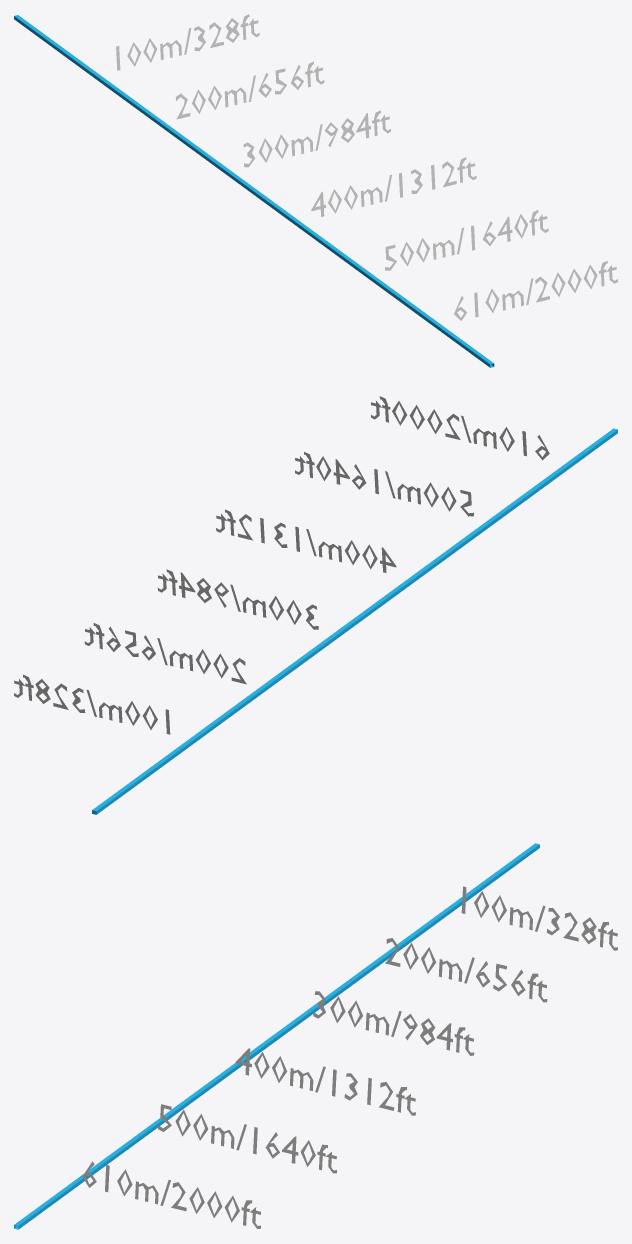
Rendered from wireDistance.glb.
3 views of the same model, one above another, from view 1: azimuth 30°, elevation 25°; view 2: azimuth 150°, elevation 25°; view 3: azimuth 330°, elevation 25° (orthographic). The views are drawn at different scales.
Parts seen in each view (by area): view 1: Cube, Text.004, Text.003, Text.005, Text.001, Text, Text.002; view 2: Cube, Text.004, Text.003, Text.005, Text.001, Text, Text.002; view 3: Cube, Text.004, Text.003, Text.005, Text.001, Text, Text.002.
Boxes of the visible parts, x1=… form: Cube: x1=14, y1=15, x2=494, y2=367; Text.004: x1=385, y1=210, x2=548, y2=270; Text.003: x1=311, y1=157, x2=476, y2=216; Text.005: x1=454, y1=260, x2=617, y2=320; Text.001: x1=243, y1=110, x2=390, y2=167; Text: x1=116, y1=14, x2=259, y2=70; Text.002: x1=175, y1=61, x2=324, y2=119; Cube: x1=92, y1=428, x2=617, y2=814; Text.004: x1=295, y1=452, x2=473, y2=516; Text.003: x1=216, y1=509, x2=396, y2=572; Text.005: x1=371, y1=396, x2=549, y2=460; Text.001: x1=157, y1=569, x2=318, y2=629; Text: x1=14, y1=674, x2=170, y2=734; Text.002: x1=84, y1=623, x2=246, y2=684; Cube: x1=14, y1=843, x2=539, y2=1229; Text.004: x1=158, y1=1104, x2=336, y2=1173; Text.003: x1=235, y1=1048, x2=415, y2=1115; Text.005: x1=82, y1=1161, x2=260, y2=1228; Text.001: x1=313, y1=991, x2=474, y2=1055; Text: x1=461, y1=886, x2=617, y2=950; Text.002: x1=385, y1=938, x2=547, y2=1002.
Bounding box in the file's own units: 21.8 × 3.56 × 102.
7 materials, 1 textured.
